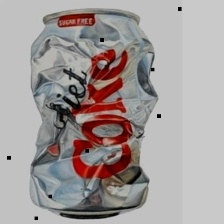can: (23, 5, 159, 220)
